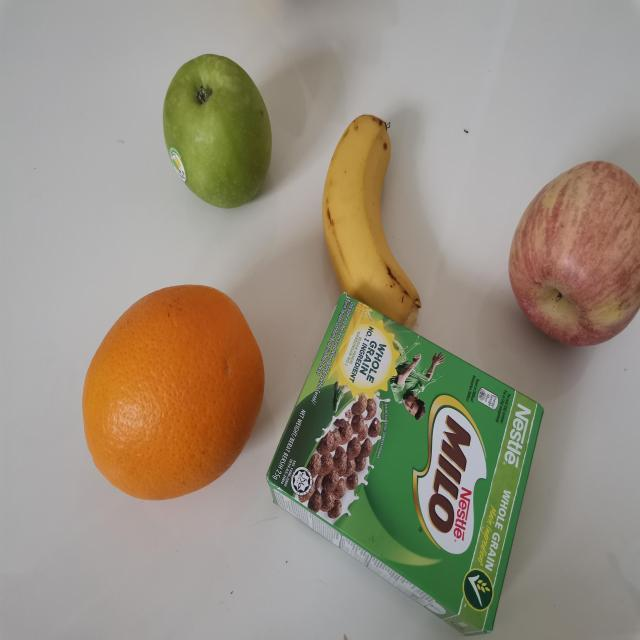Apple: (508, 159, 640, 353), (160, 49, 275, 209)
Banana: (320, 114, 423, 333)
Cerealbox: (263, 291, 543, 639)
Orange: (79, 281, 269, 504)
